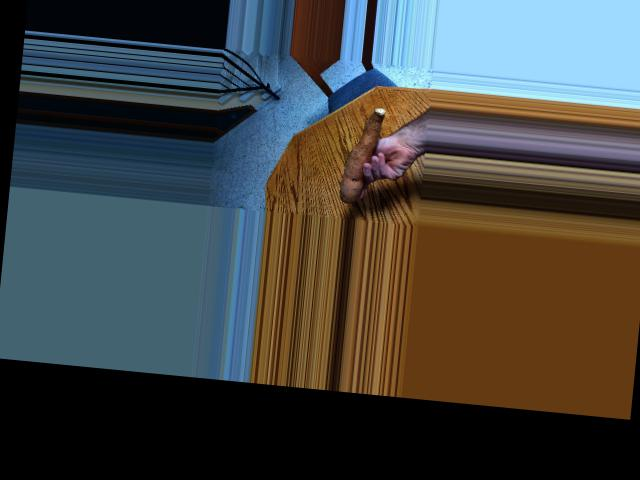sweet_potato: (335, 102, 389, 204)
